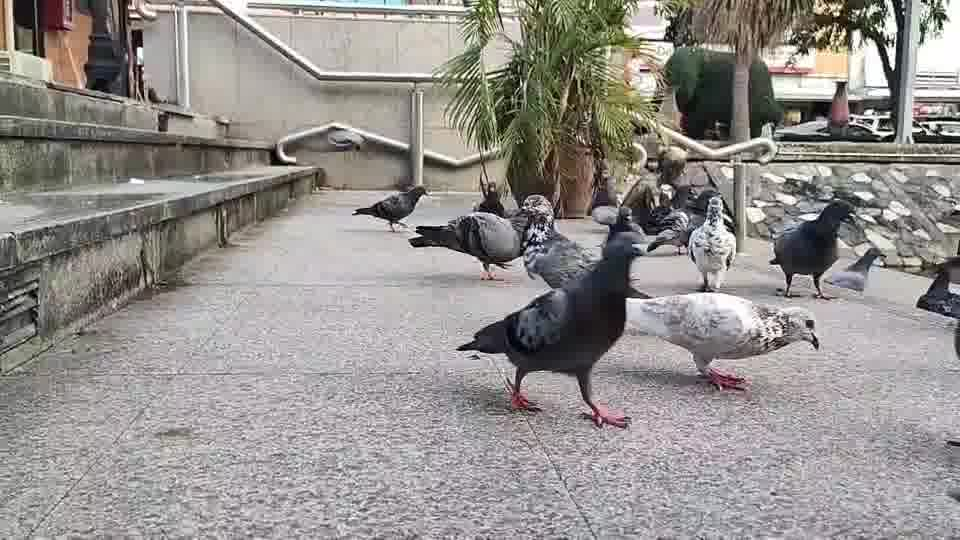Pigeon: (455, 206, 652, 429), (625, 289, 819, 392), (767, 199, 855, 299), (408, 210, 525, 280), (517, 193, 591, 289), (686, 195, 737, 292), (351, 183, 430, 232), (824, 246, 887, 296), (915, 253, 959, 319), (473, 169, 506, 217)
